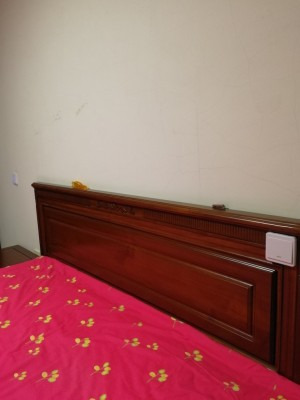switch: (266, 238, 292, 263)
